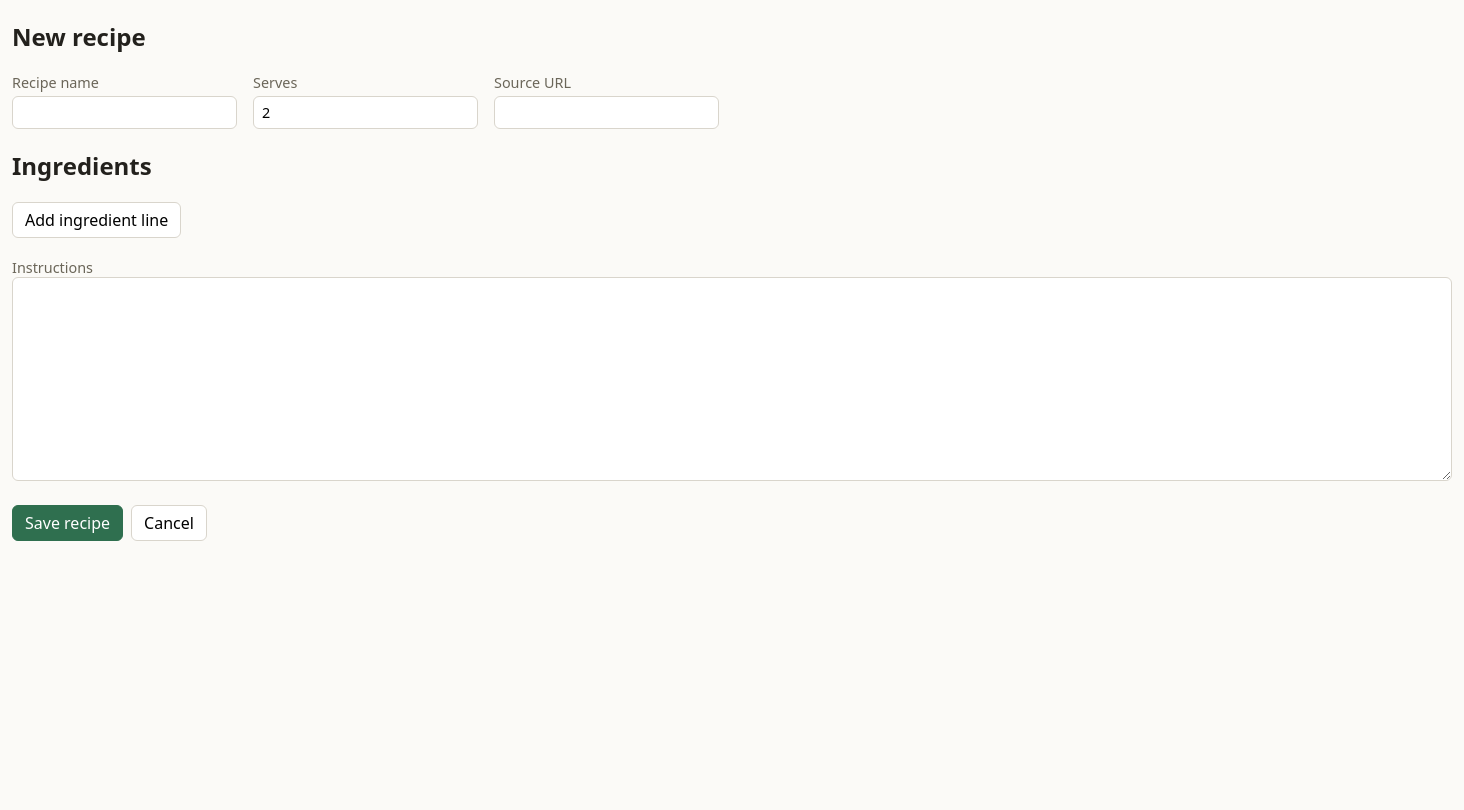
Test: RecipeEditorPage › offers inline creation when the typed name matches nothing
Click the button "Add ingredient line". click: (97, 220)
box: [12,202,181,238]
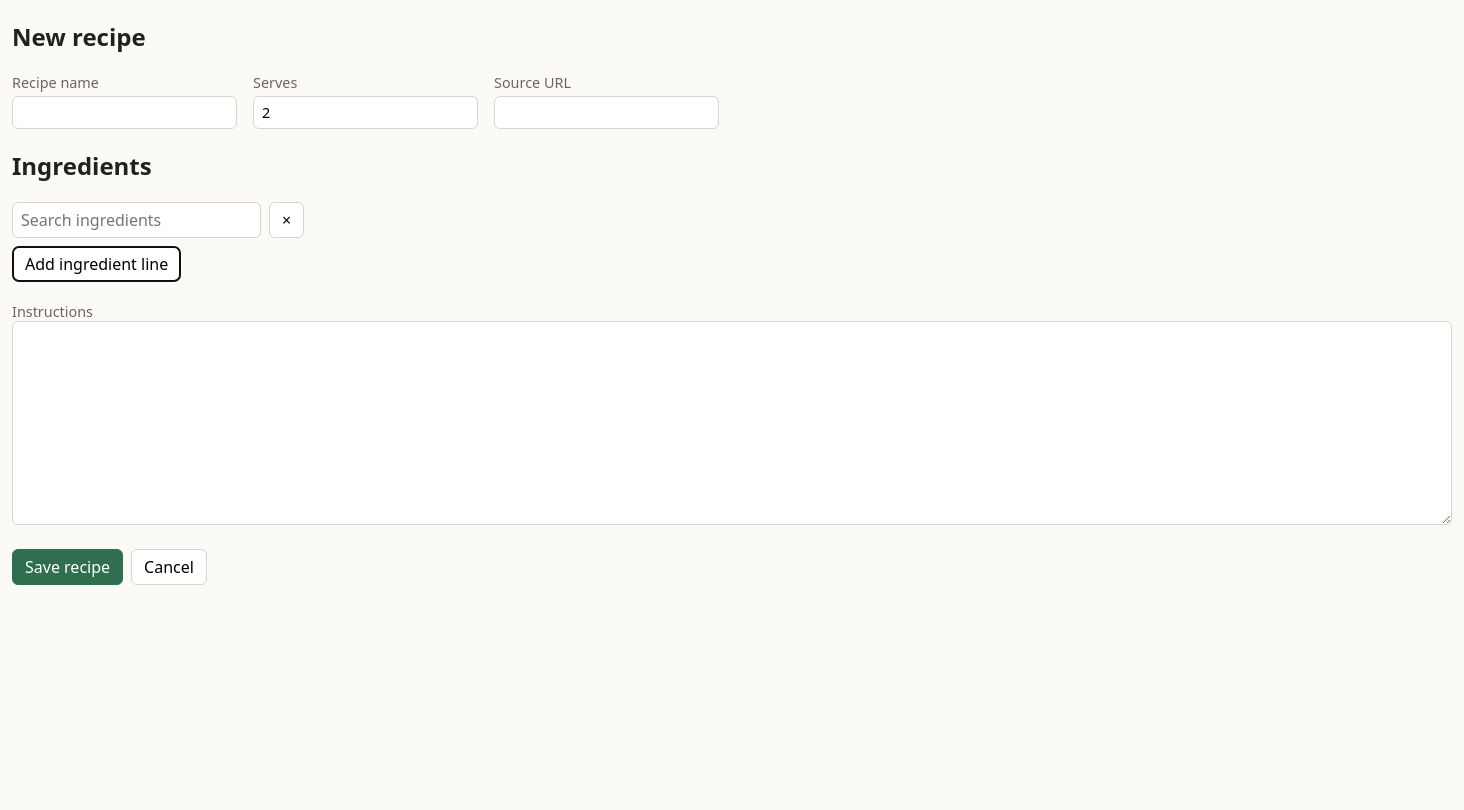
Type "Tahini" into the field with placeholder "Search ingredients". click: (136, 220)
box: [12,202,261,238]
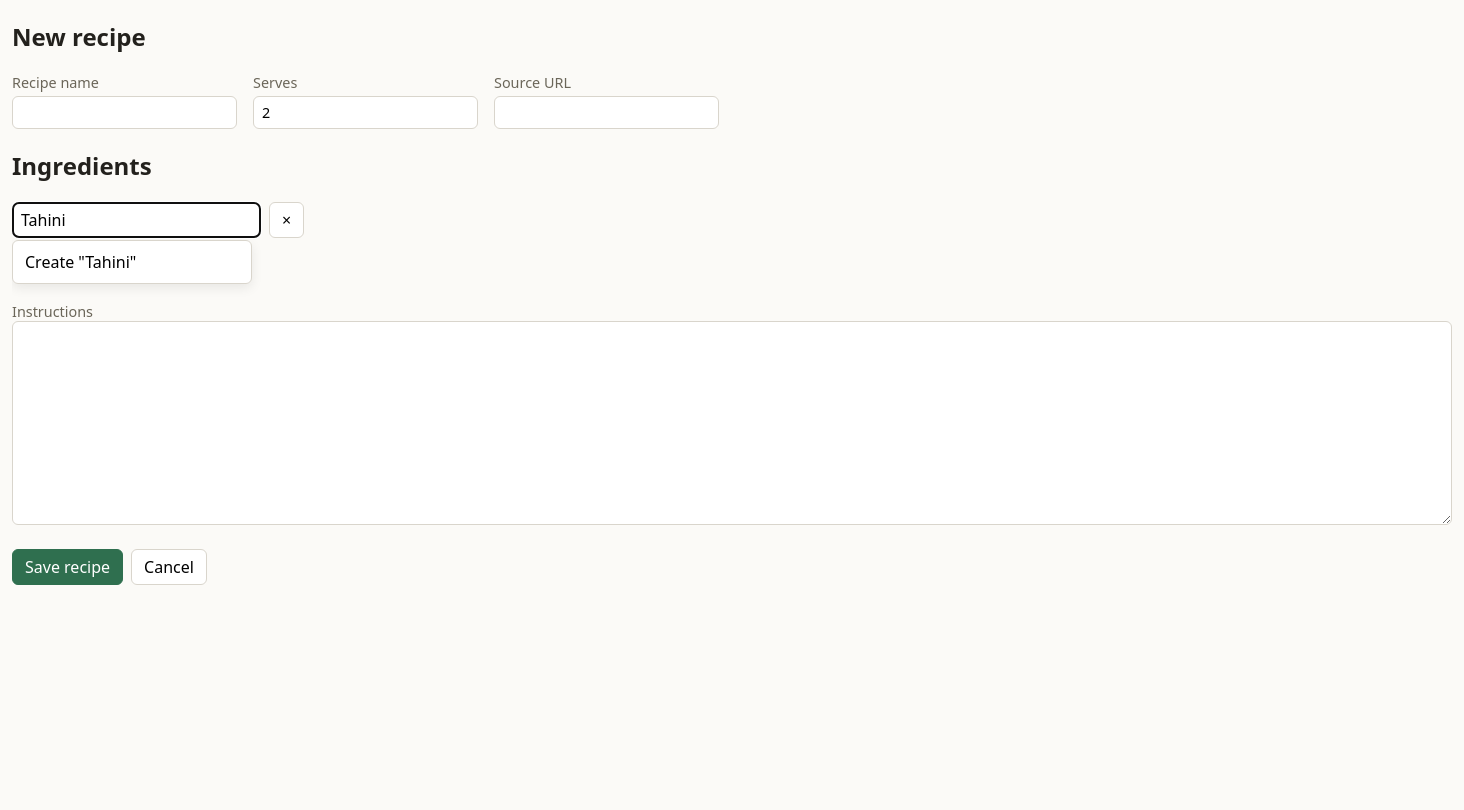
Click the option "Create \"Tahini\"". click: (132, 262)
box: [17,245,247,279]
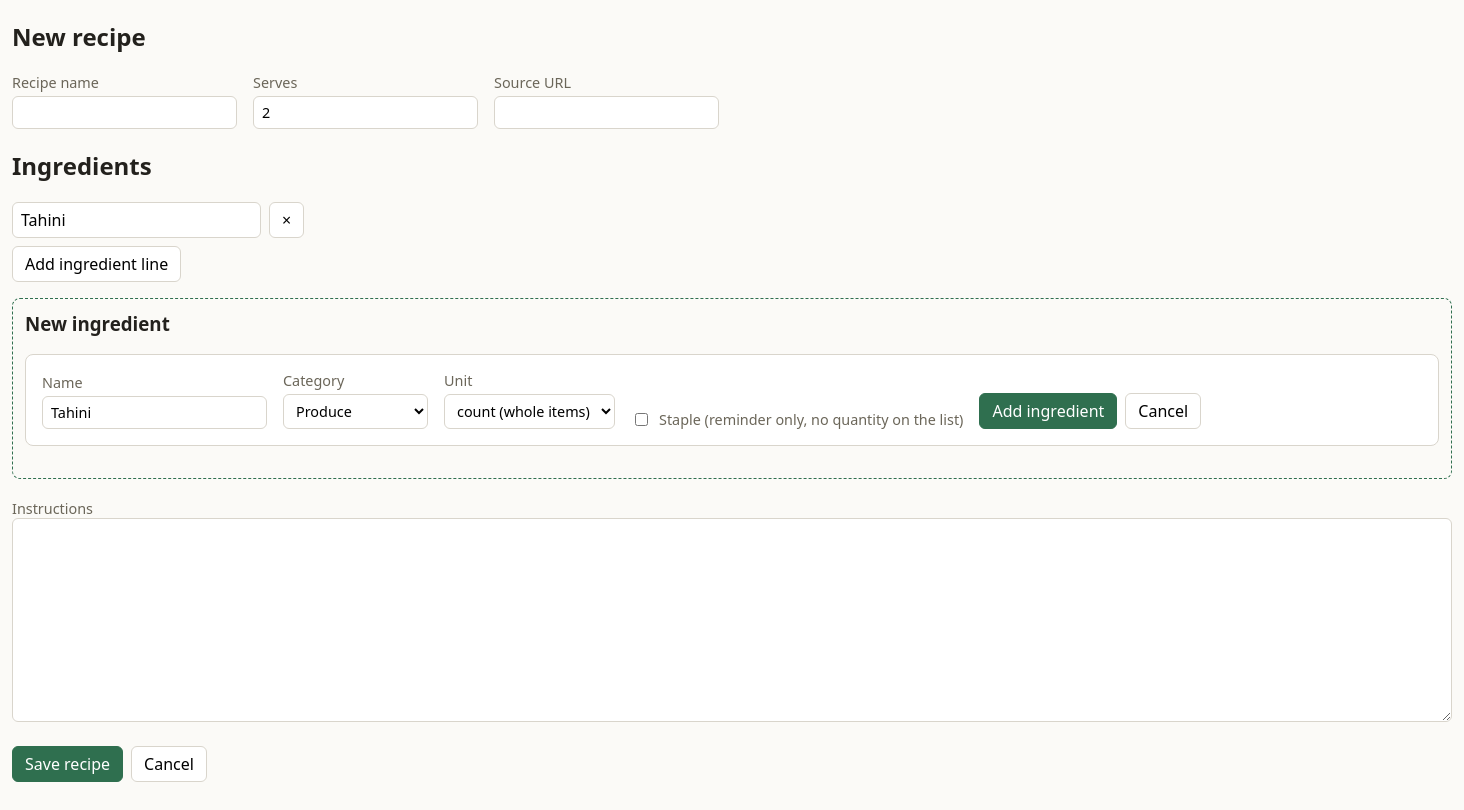
Expected: the form named "new ingredient" is shown, [25,354,1439,446]
Expected: the field labelled "Name" holds "Tahini", [42,396,267,429]
